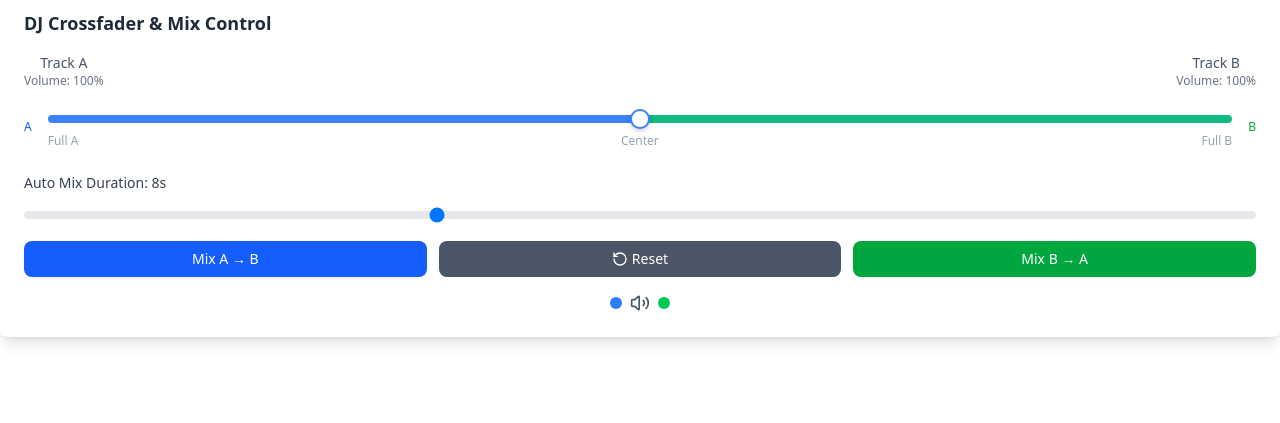
Test case: Crossfader Component › starts auto mix A to B
This screenshot has width=1280, height=423.
Click the button "Mix A → B".
click(225, 259)  # box [24,241,427,277]
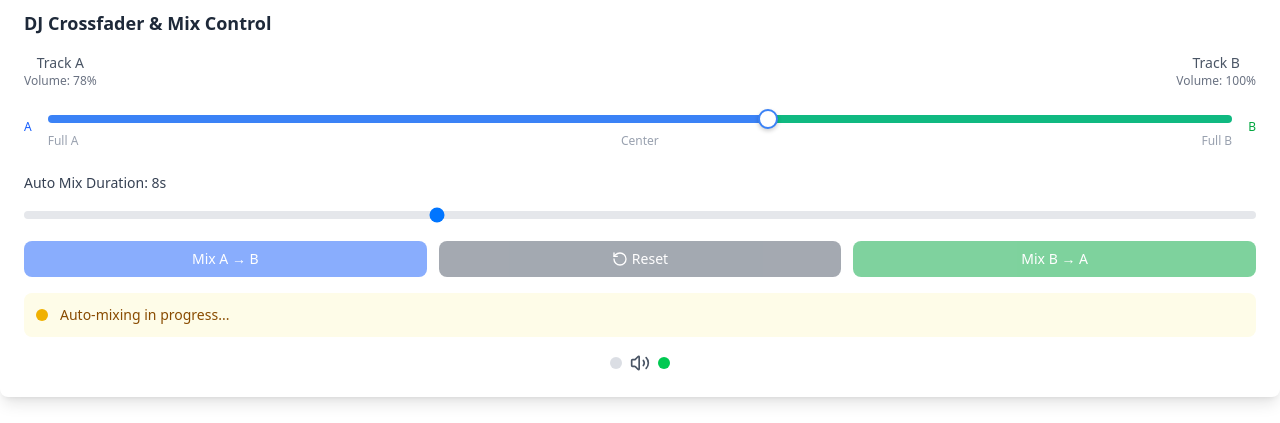
Check: the text "Auto-mixing in progress..." is shown, box [60,305,229,325]
